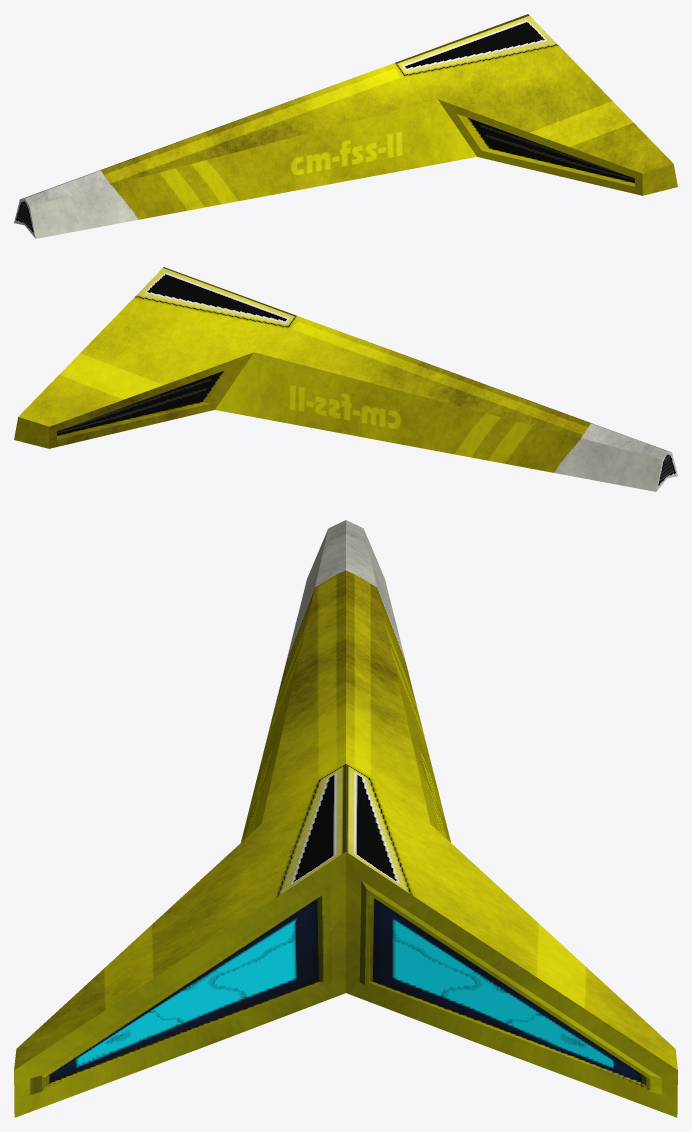
Rendered from traffic_yellow.glb.
3 views of the same model, one above another, from view 1: azimuth 30°, elevation 25°; view 2: azimuth 150°, elevation 25°; view 3: azimuth 270°, elevation 25° (orthographic). The views are drawn at different scales.
Parts seen in each view (by area): view 1: Cube; view 2: Cube; view 3: Cube.
Part boxes in pixels (x1=…): Cube: x1=14, y1=14, x2=677, y2=238; Cube: x1=14, y1=267, x2=677, y2=491; Cube: x1=14, y1=520, x2=677, y2=1117.
Size of the model in its own units: 6.46 by 1.33 by 3.68.
Materials: 1 (1 with a texture image).
